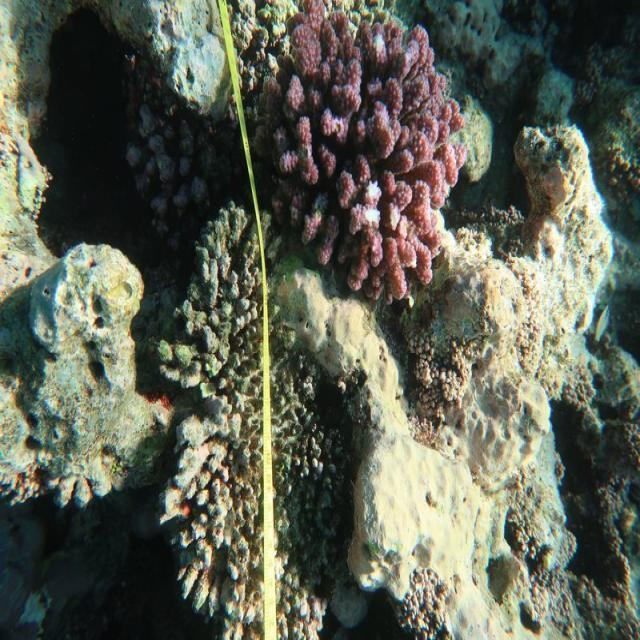Healthy Coral: (252, 1, 467, 317)
